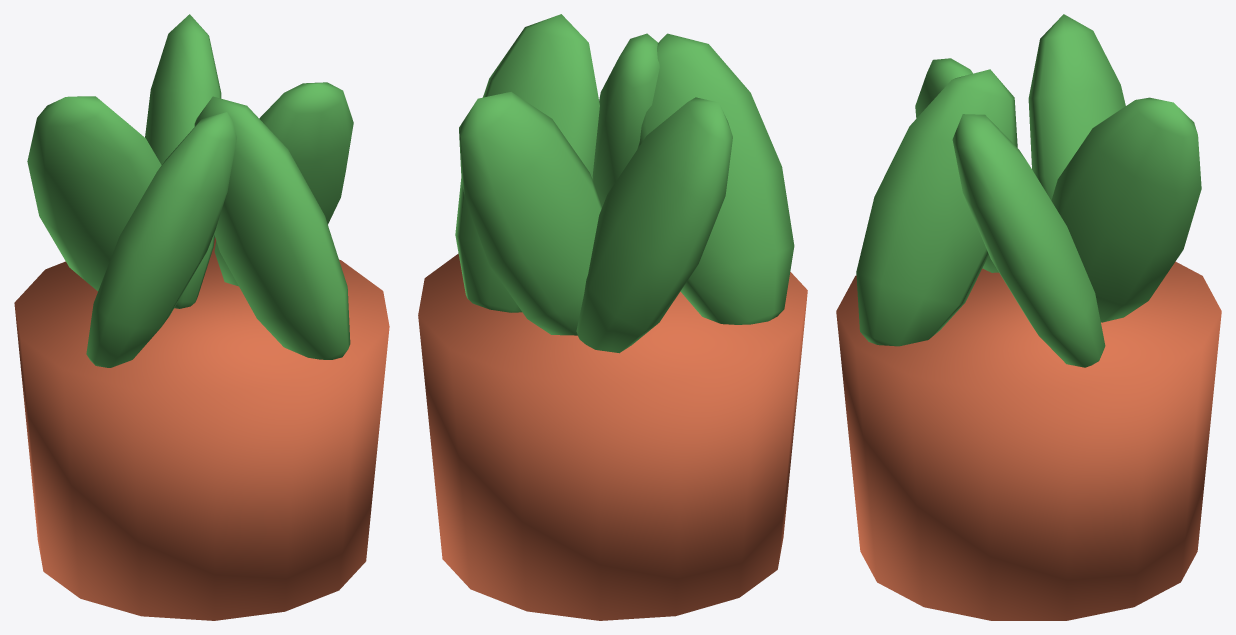
Rendered from SmallPlant.fbx.
3 views of the same model, side by side, from view 1: azimuth 30°, elevation 25°; view 2: azimuth 150°, elevation 25°; view 3: azimuth 270°, elevation 25° (orthographic). The views are drawn at different scales.
Visible parts, largest first — view 1: SmallPlantBody; view 2: SmallPlantBody; view 3: SmallPlantBody.
Boxes of the visible parts, x1,y1,x2,y2 form: SmallPlantBody: [14, 14, 389, 620]; SmallPlantBody: [418, 14, 807, 620]; SmallPlantBody: [836, 14, 1221, 620].
Bounding box in the file's own units: 0.156 × 0.219 × 0.16.
